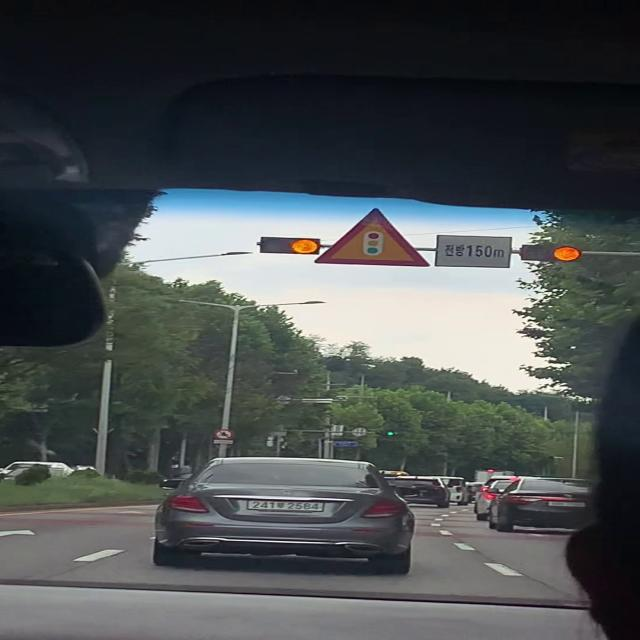yellow_light: (259, 237, 319, 254), (521, 246, 580, 260)
